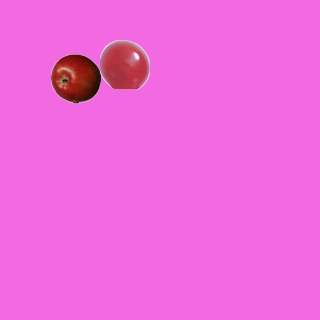Apple Braeburn: (50, 53, 100, 103)
Redcurrant: (99, 39, 149, 89)
